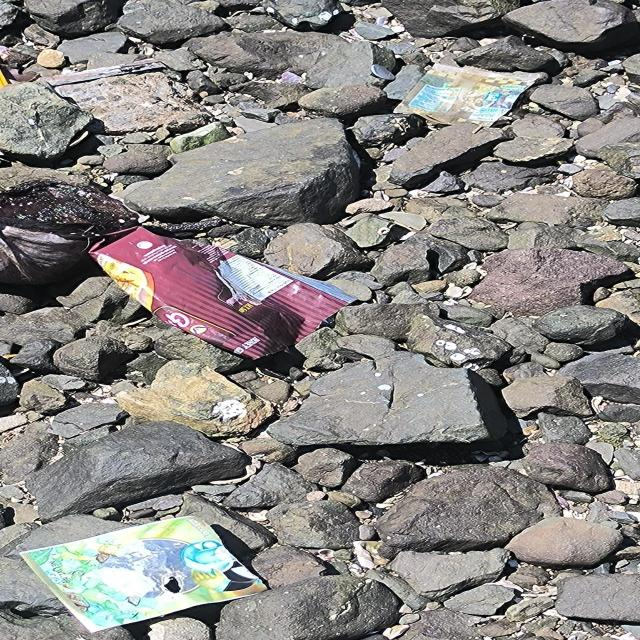plastic_waste: (88, 226, 363, 362), (19, 517, 271, 636), (393, 63, 541, 129)
